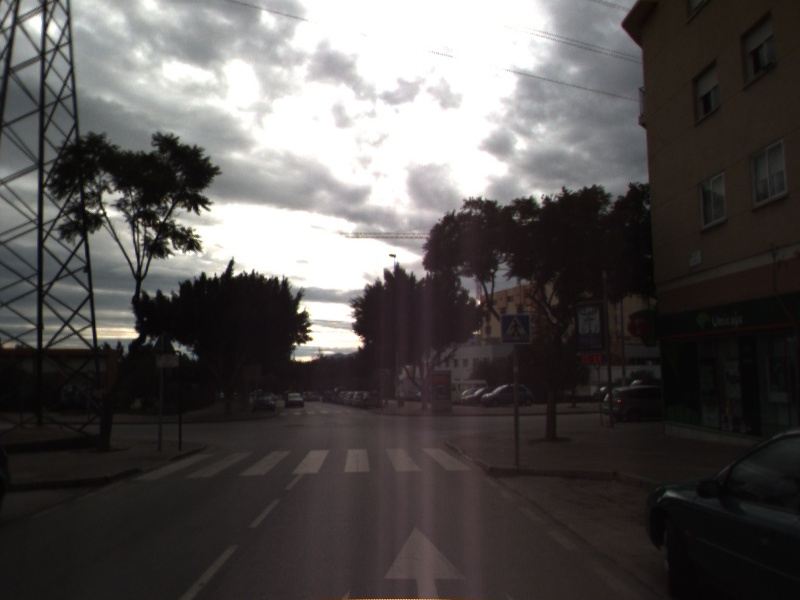STRAIGHT: (380, 523, 473, 600)
